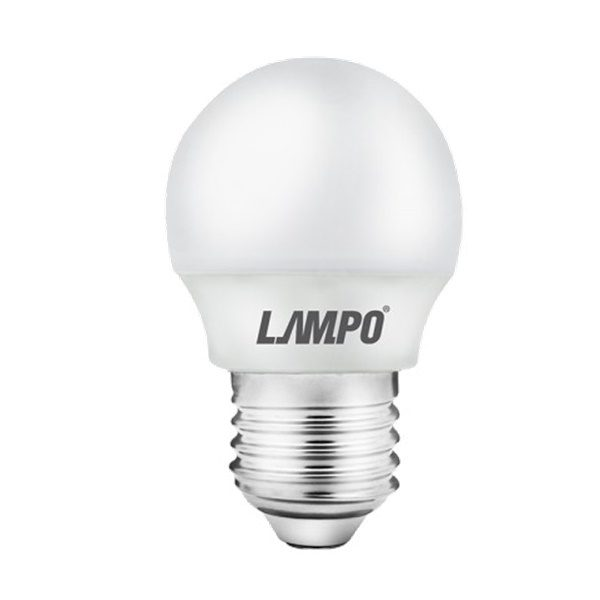Light_bulb: (161, 49, 470, 553)
